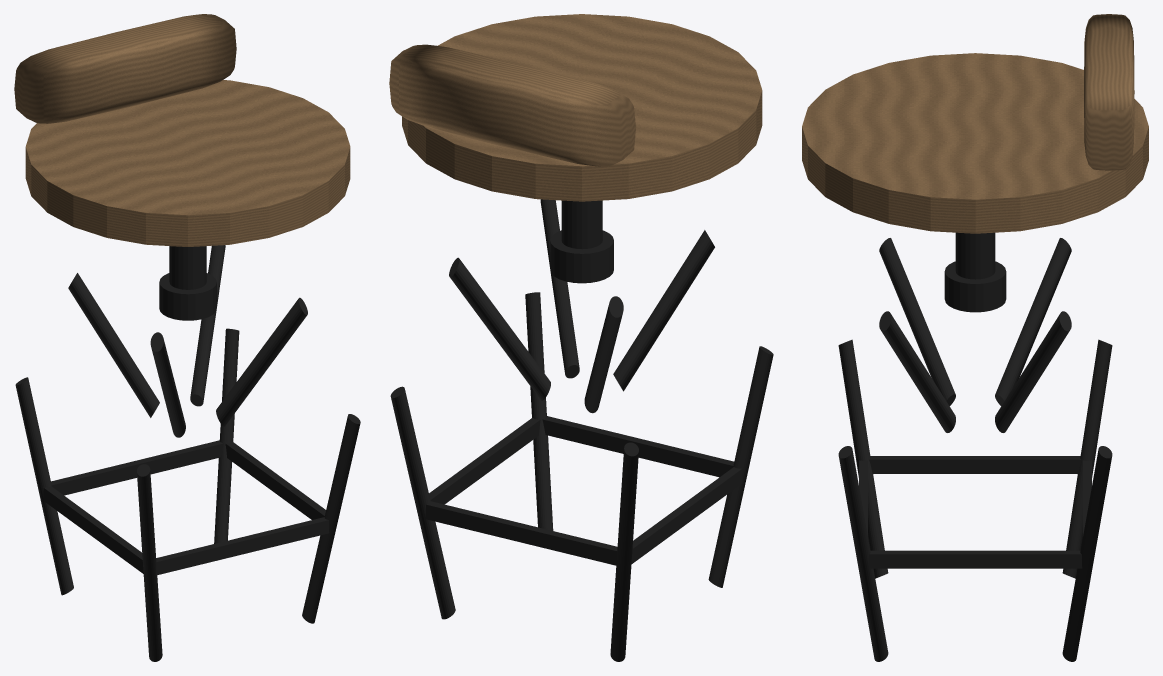
3 views of the same model, side by side, from view 1: azimuth 30°, elevation 25°; view 2: azimuth 150°, elevation 25°; view 3: azimuth 270°, elevation 25° (orthographic). The views are drawn at different scales.
Parts seen in each view (by area): view 1: 1 seat, 2 backrest, 13 front_footrest_bar, 10 back_left_leg_lower, 8 front_right_leg_lower, 14 back_footrest_bar, 6 front_left_leg_lower, 9 back_left_leg_upper, 7 front_right_leg_upper, 12 back_right_leg_lower, 15 left_footrest_bar, 4 spindle_collar (+4 smaller); view 2: 1 seat, 2 backrest, 14 back_footrest_bar, 6 front_left_leg_lower, 12 back_right_leg_lower, 13 front_footrest_bar, 10 back_left_leg_lower, 5 front_left_leg_upper, 11 back_right_leg_upper, 8 front_right_leg_lower, 15 left_footrest_bar, 4 spindle_collar (+4 smaller); view 3: 1 seat, 2 backrest, 16 right_footrest_bar, 15 left_footrest_bar, 8 front_right_leg_lower, 12 back_right_leg_lower, 6 front_left_leg_lower, 10 back_left_leg_lower, 5 front_left_leg_upper, 9 back_left_leg_upper, 7 front_right_leg_upper, 11 back_right_leg_upper (+2 smaller).
Boxes of the visible parts, x1,y1,x2,y2 form: 1 seat: (25, 80, 350, 246); 2 backrest: (14, 14, 236, 123); 13 front_footrest_bar: (156, 517, 329, 575); 10 back_left_leg_lower: (15, 377, 73, 595); 8 front_right_leg_lower: (302, 414, 360, 623); 14 back_footrest_bar: (51, 440, 223, 495); 6 front_left_leg_lower: (137, 464, 162, 661); 9 back_left_leg_upper: (68, 273, 159, 417); 7 front_right_leg_upper: (216, 297, 307, 426); 12 back_right_leg_lower: (214, 328, 239, 543); 15 left_footrest_bar: (43, 486, 143, 573); 4 spindle_collar: (159, 273, 216, 320); 1 seat: (402, 14, 762, 201); 2 backrest: (389, 44, 635, 166); 14 back_footrest_bar: (425, 501, 617, 565); 6 front_left_leg_lower: (708, 346, 773, 587); 12 back_right_leg_lower: (390, 386, 455, 619); 13 front_footrest_bar: (542, 416, 734, 477); 10 back_left_leg_lower: (610, 442, 638, 661); 5 front_left_leg_upper: (613, 230, 714, 391); 11 back_right_leg_upper: (449, 257, 550, 400); 8 front_right_leg_lower: (525, 292, 553, 530); 15 left_footrest_bar: (631, 467, 742, 564); 4 spindle_collar: (550, 230, 613, 283); 1 seat: (802, 53, 1148, 233); 2 backrest: (1084, 14, 1134, 170); 16 right_footrest_bar: (868, 550, 1082, 568); 15 left_footrest_bar: (869, 456, 1081, 473); 8 front_right_leg_lower: (838, 446, 888, 661); 12 back_right_leg_lower: (1062, 446, 1112, 661); 6 front_left_leg_lower: (838, 339, 888, 578); 10 back_left_leg_lower: (1062, 339, 1112, 578); 5 front_left_leg_upper: (879, 238, 955, 405); 9 back_left_leg_upper: (995, 238, 1071, 405); 7 front_right_leg_upper: (879, 311, 955, 432); 11 back_right_leg_upper: (995, 311, 1071, 432).
Size of the model in its own units: 0.56 by 1 by 0.56.
2 materials, 1 textured.
